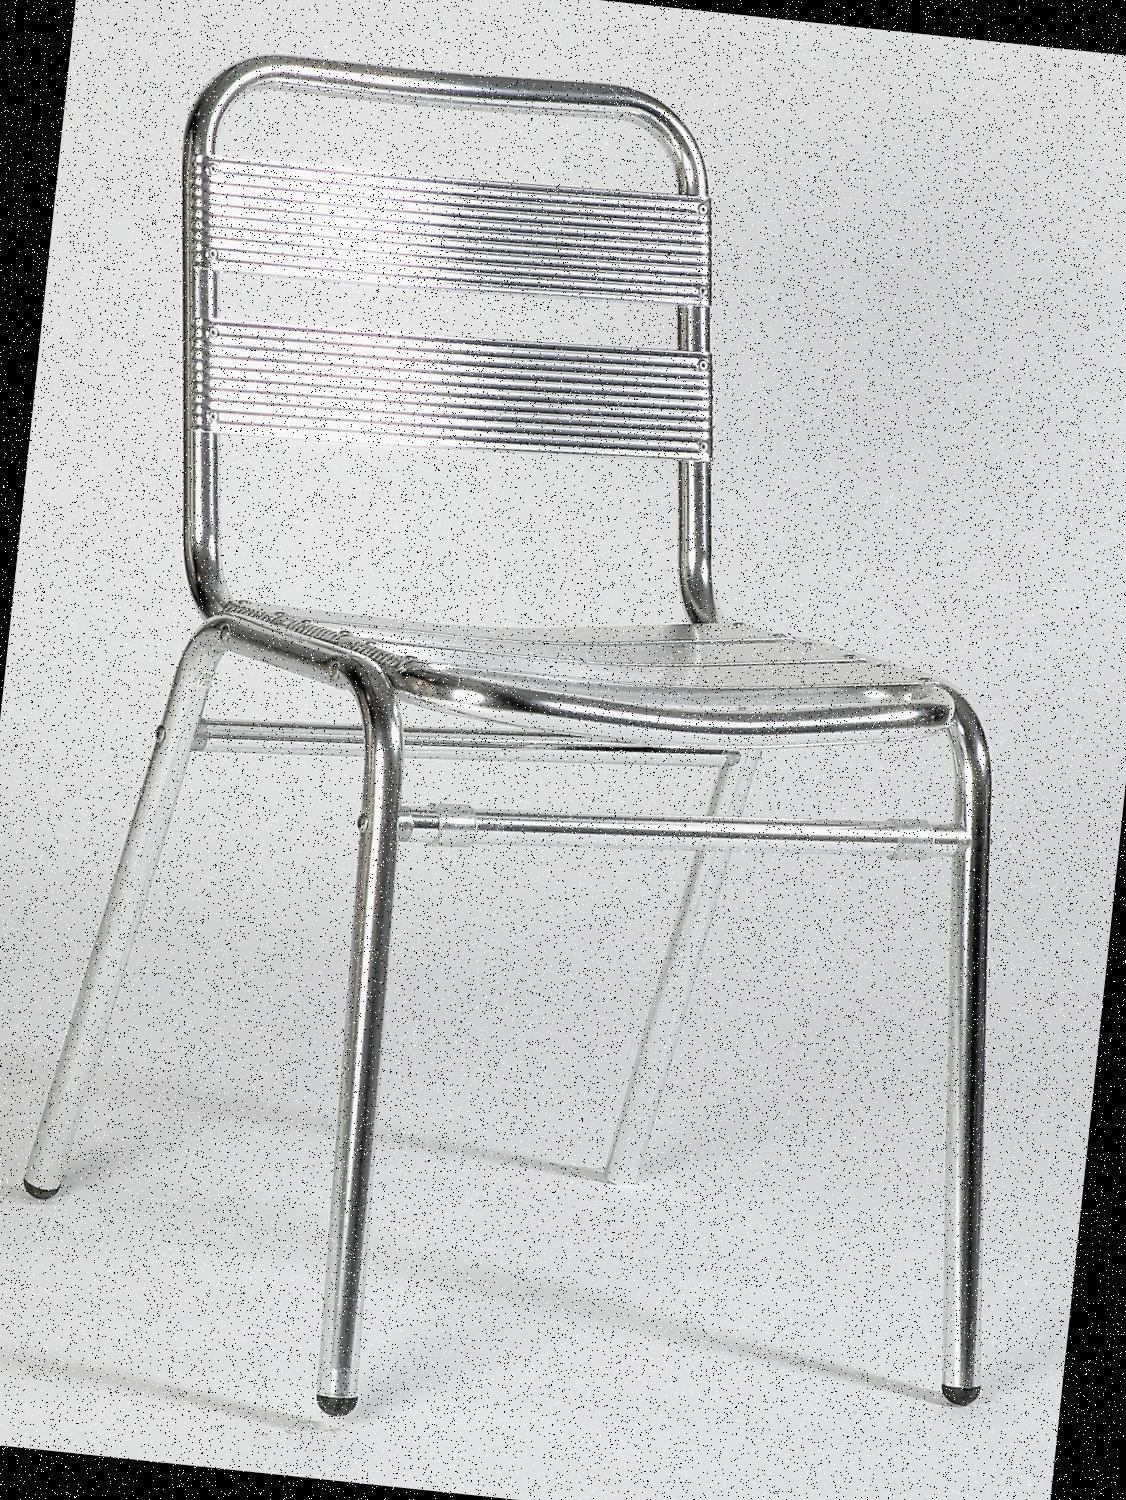Silla: (0, 0, 1125, 1491)
